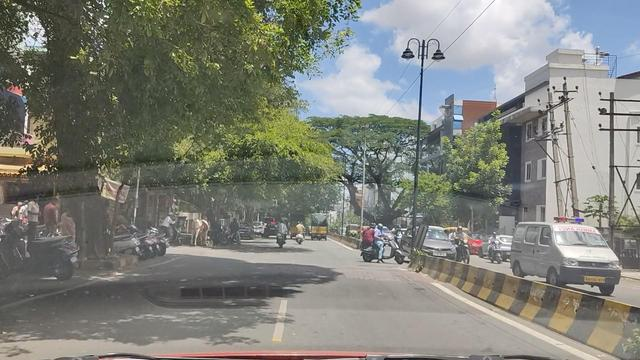LMV: (356, 223, 408, 266)
